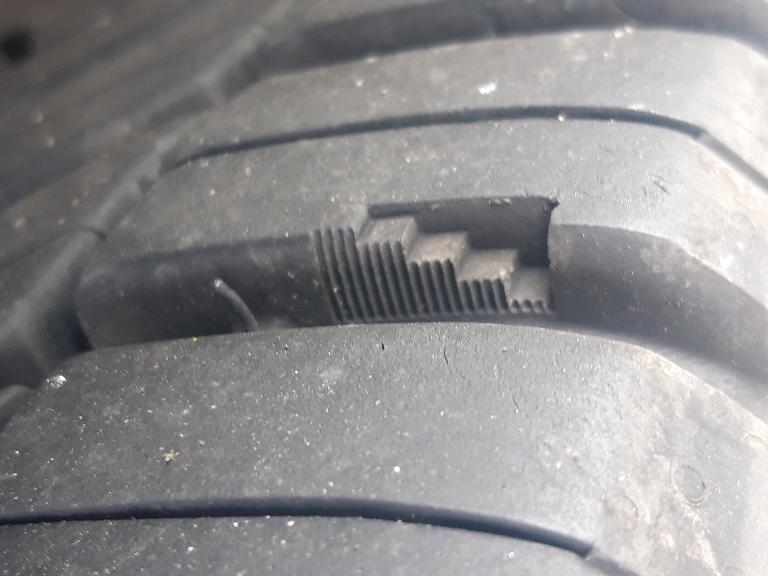temoin:90: (306, 186, 577, 334)
